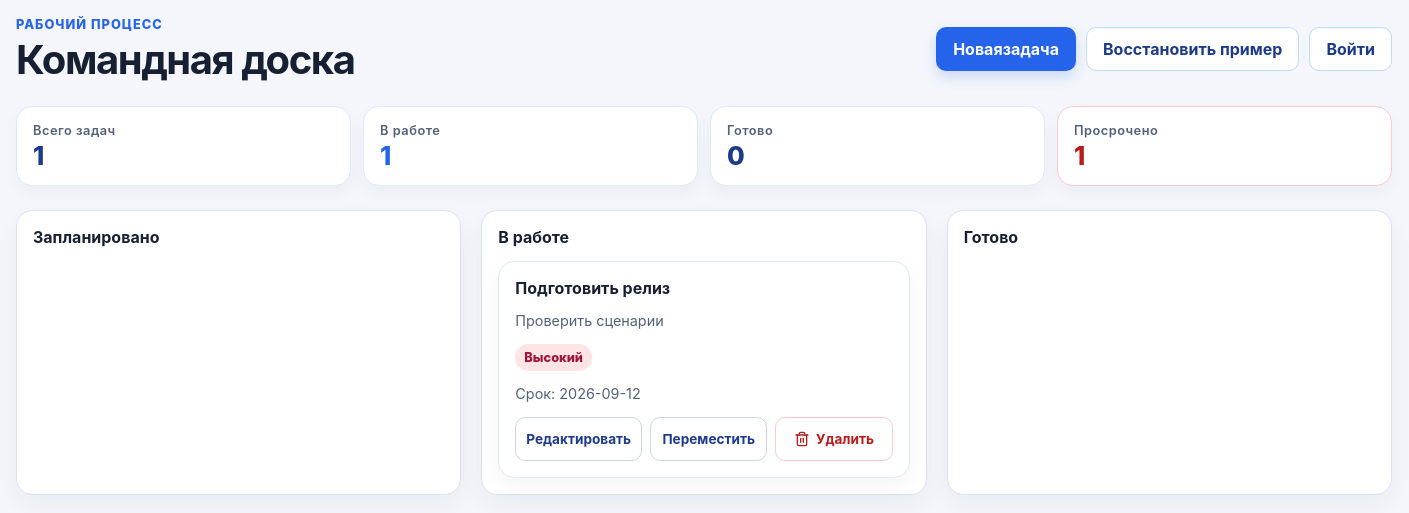
Scenario: App › moves a task to the next status with an accessible button
This screenshot has width=1409, height=513.
Expected: the heading "Подготовить релиз" is shown, [515,278,670,298]
Expected: the element named "Просрочено: 1" is shown, [1057,106,1392,186]
Click the button with aria-label "Переместить: Подготовить релиз" at (709, 439), box [650,417,767,461]
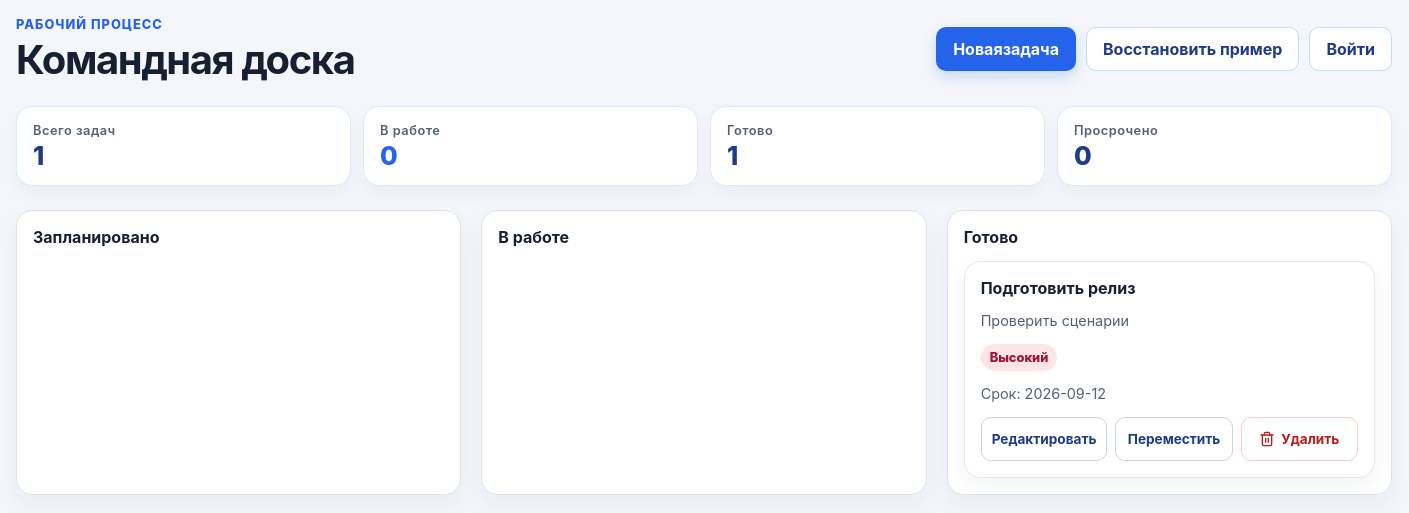
Now the element named "Просрочено: 0" is shown, box [1057,106,1392,186]
